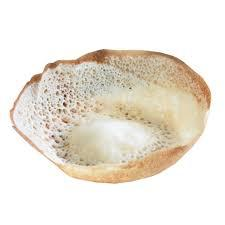Hoppers: (9, 40, 216, 193)
